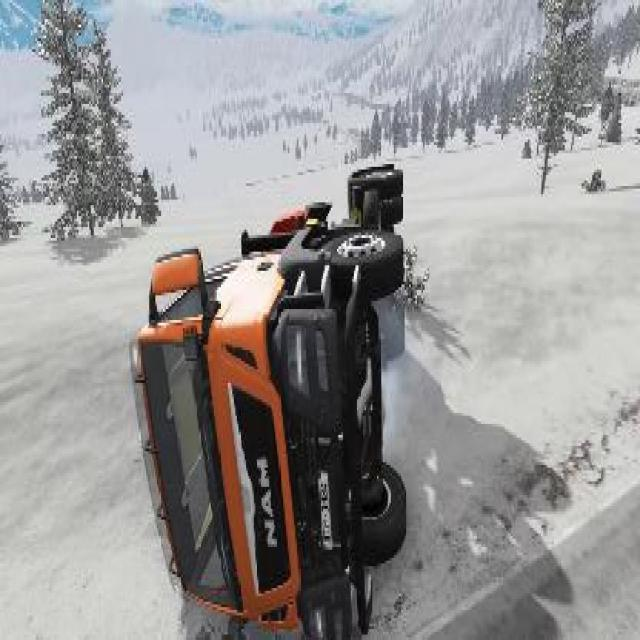accident: (126, 145, 412, 640)
